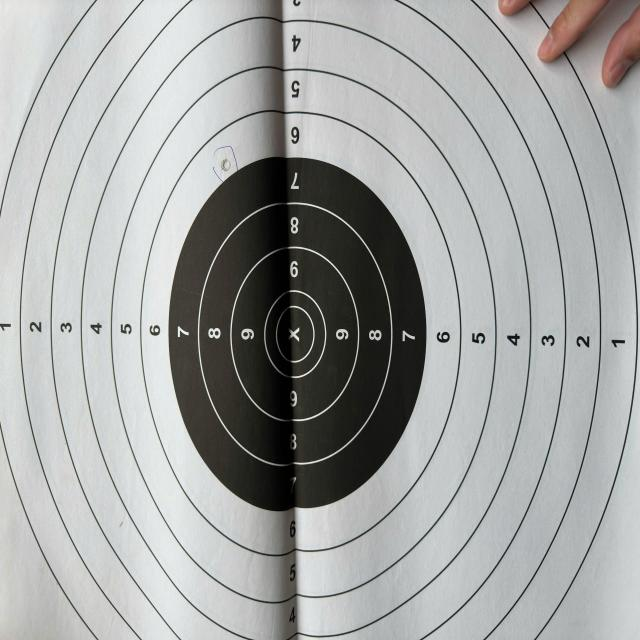bullet: (219, 156, 234, 172)
target: (0, 0, 640, 640)
